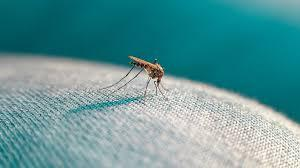insect: (100, 50, 175, 105)
